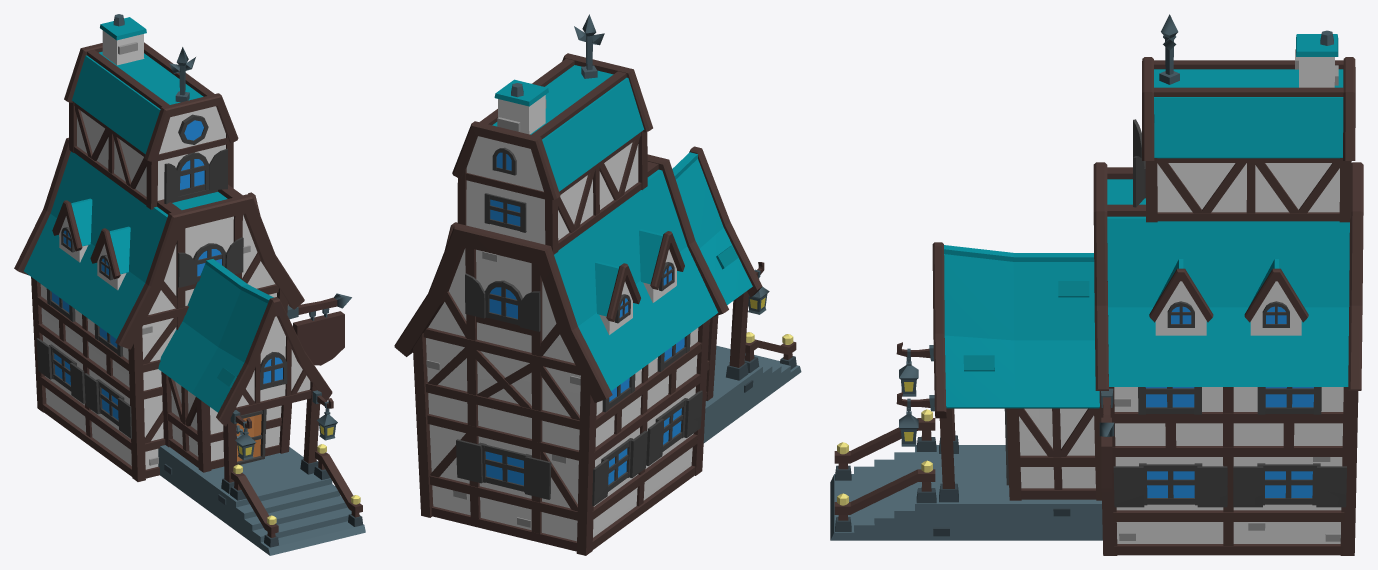
File: House_5-4.fbx
3 renders of one model, left to right at view 1: azimuth 30°, elevation 25°; view 2: azimuth 150°, elevation 25°; view 3: azimuth 270°, elevation 25°, orthographic. The views are drawn at different scales.
Visible parts, largest first — view 1: 4; view 2: 4; view 3: 4.
Part boxes in pixels (x1,y1,x2,y2): 4: [14, 14, 365, 555]; 4: [394, 14, 801, 555]; 4: [830, 14, 1363, 555].
Bounding box in the file's own units: 713 × 1145 × 1110.
